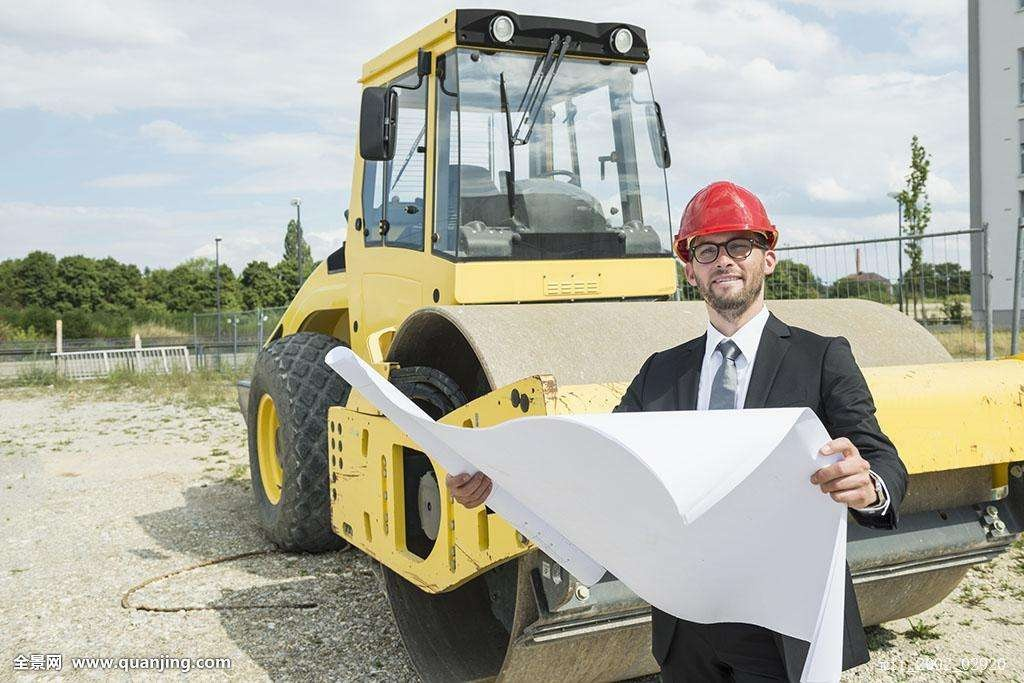red: (669, 179, 781, 315)
